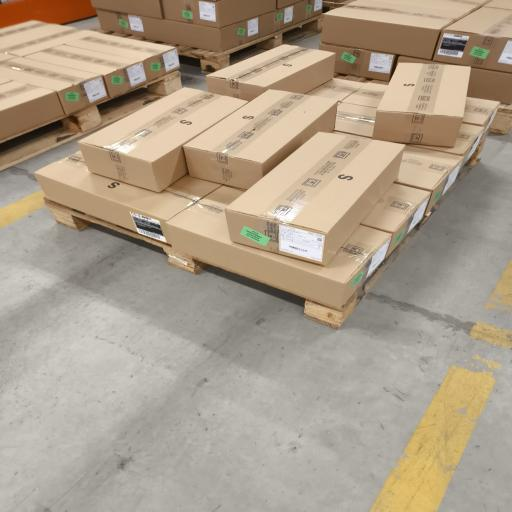pallet: (304, 144, 483, 329), (304, 158, 474, 328), (0, 71, 181, 170), (45, 198, 205, 274), (172, 14, 322, 74), (491, 105, 511, 134)
